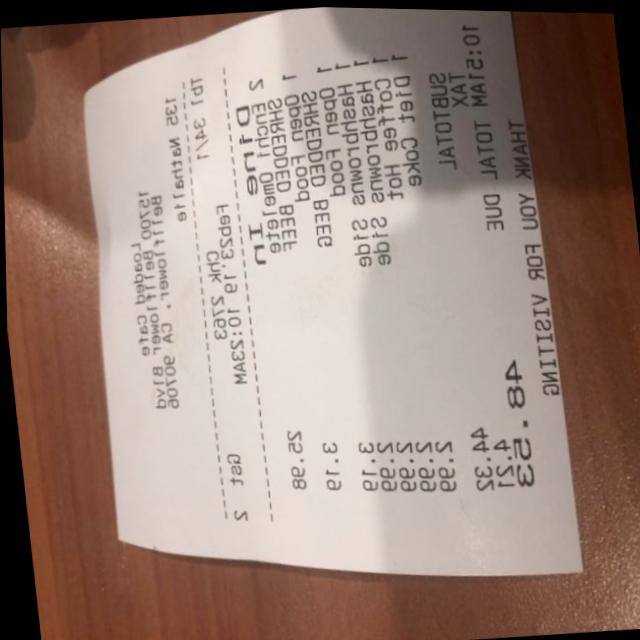Paper: (56, 1, 581, 611)
